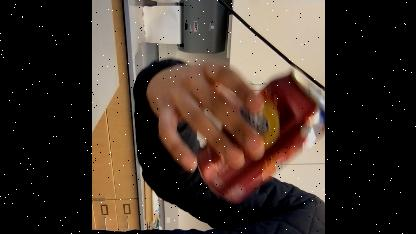Can: (196, 68, 324, 208)
